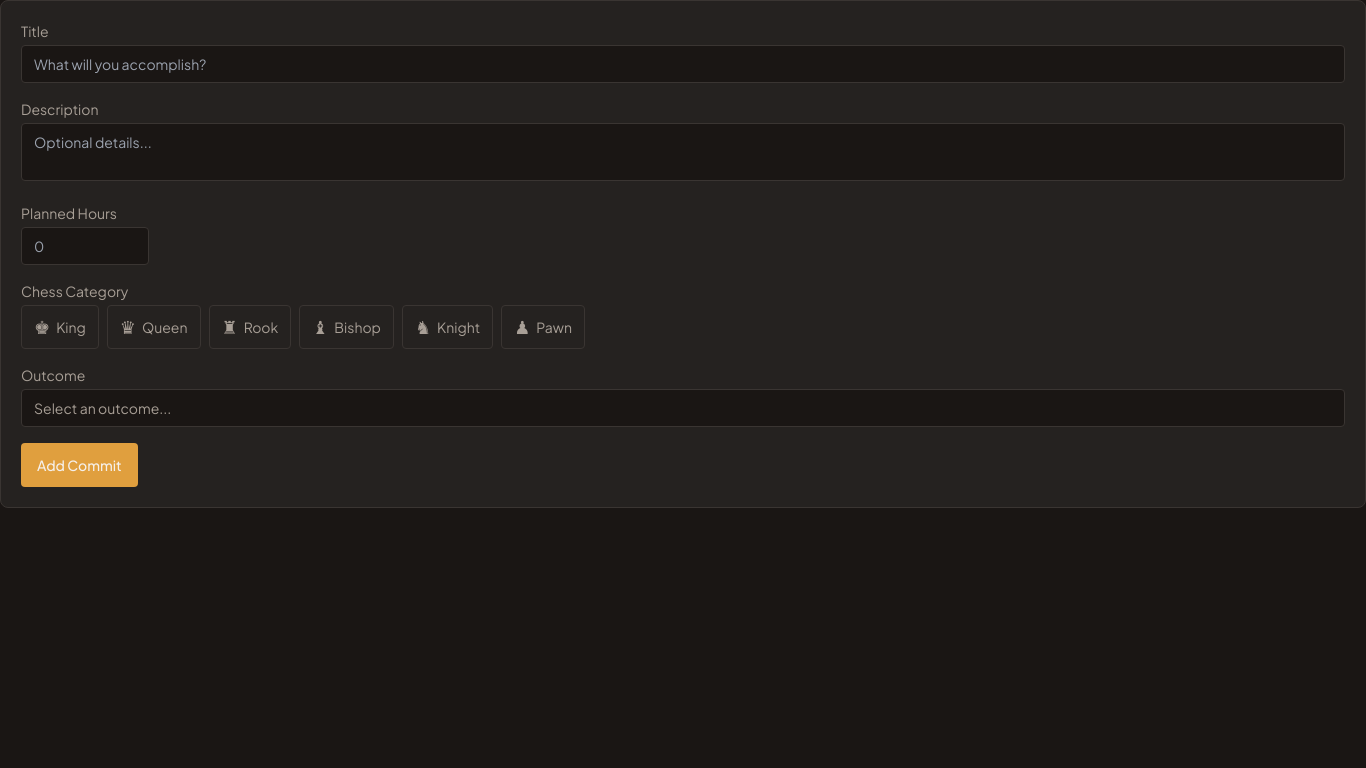
CommitForm › shows inline error when planned hours > 80
The width and height of the screenshot is (1366, 768).
Type into title first so we can isolate the hours error
Type "Valid title" into the field labelled "Title".
click(683, 64); type("Valid title")  # box [21, 45, 1345, 83]
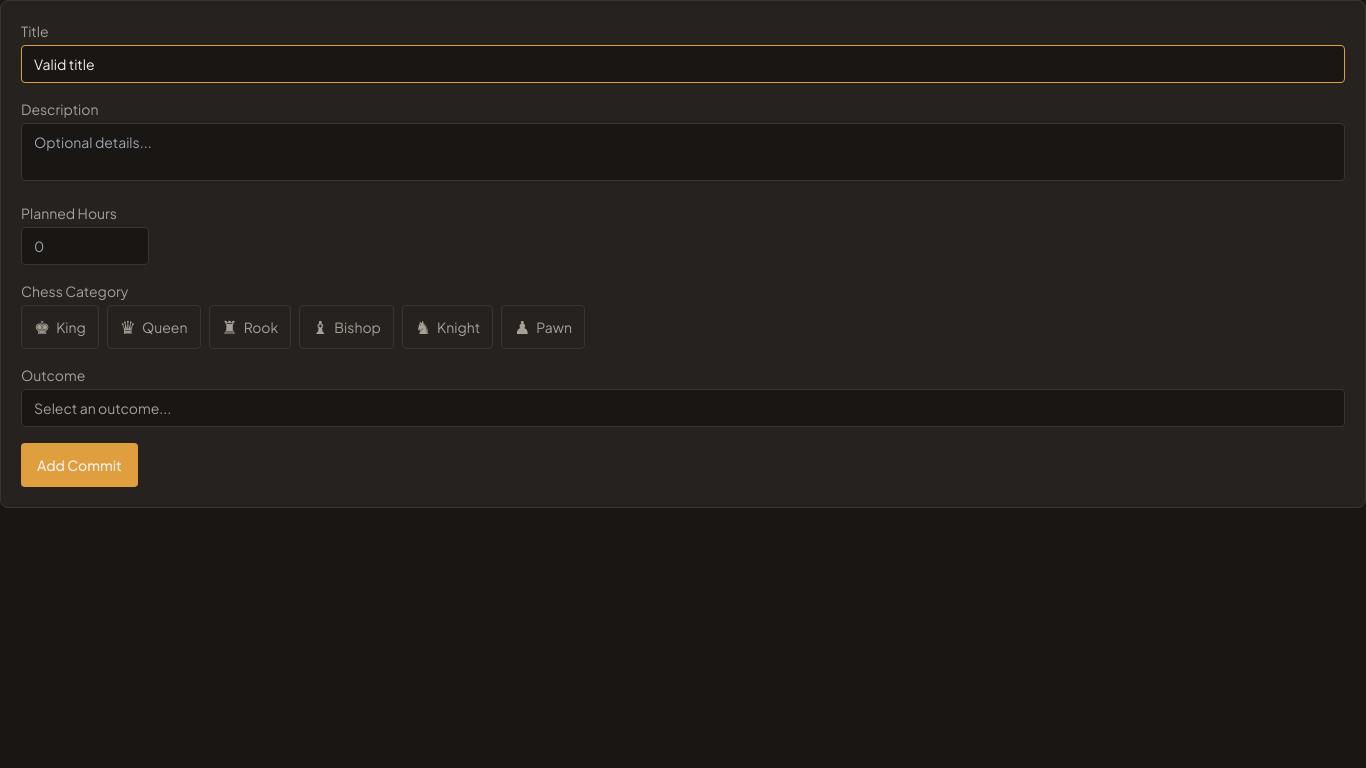
Type "81" into the number field labelled "Planned Hours".
click(85, 246); type("81")  # box [21, 227, 149, 265]
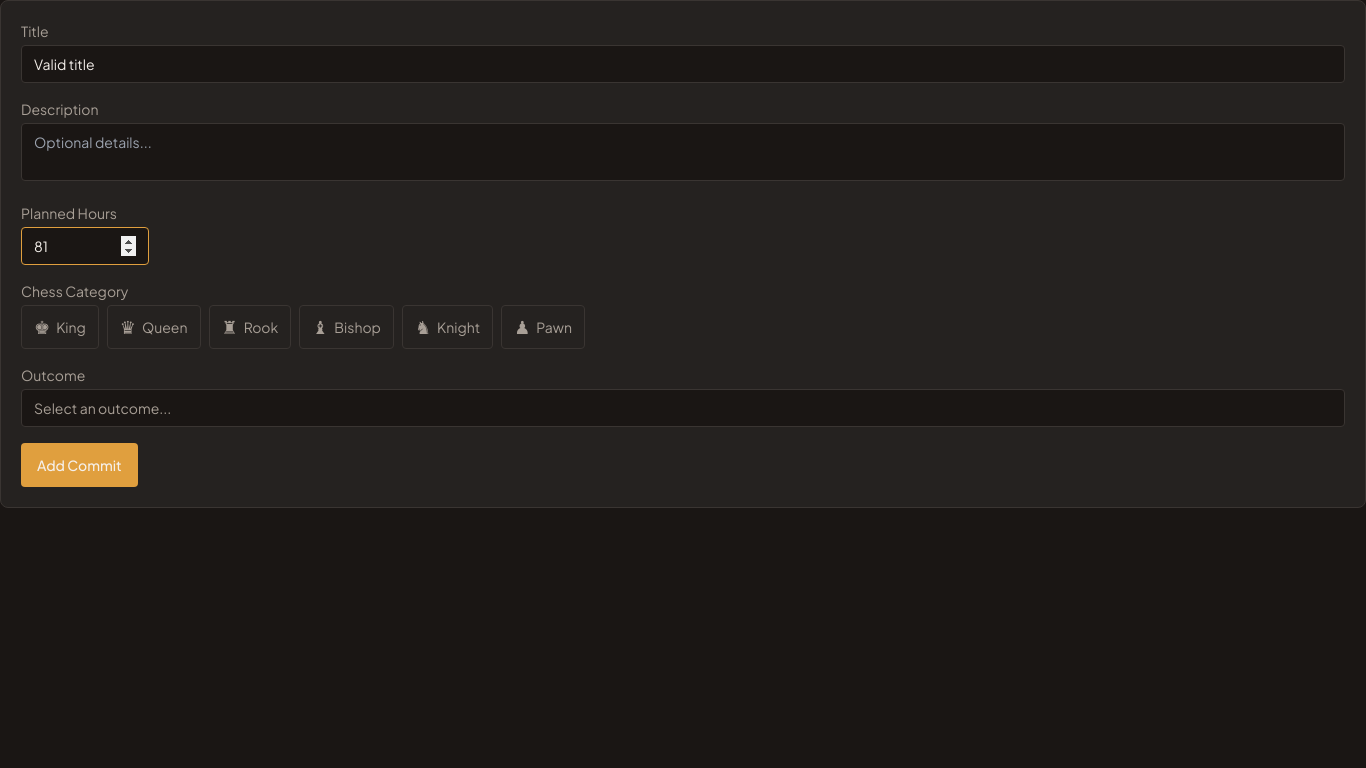
Click somewhere neutral first, then submit
Click the button "Add Commit".
click(79, 465)  # box [21, 443, 138, 487]
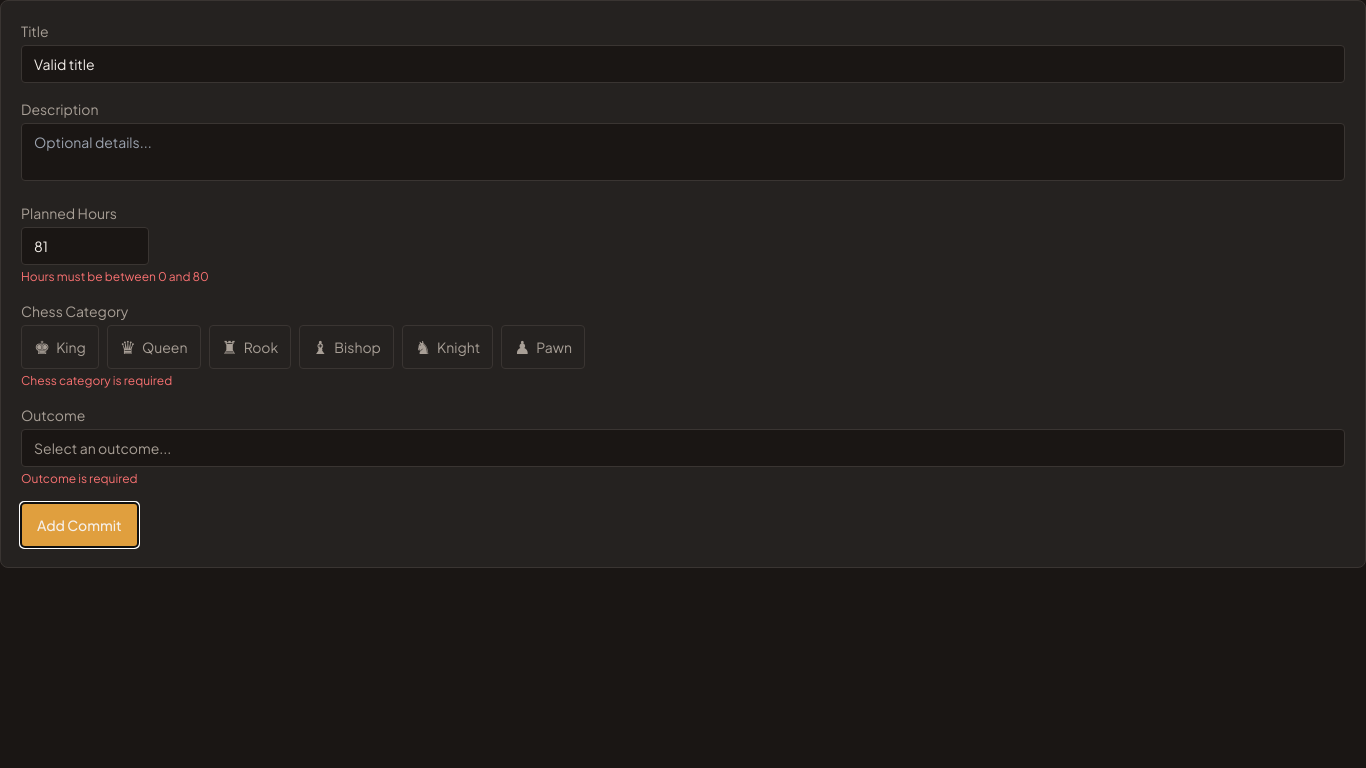
Expected: the text "Hours must be between 0 and 80" is shown, [21, 269, 209, 284]
